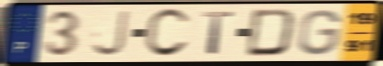3: (43, 9, 83, 59)
C: (142, 7, 193, 60)
D: (243, 7, 299, 58)
G: (296, 8, 344, 57)
J: (90, 9, 131, 59)
T: (200, 10, 236, 56)
